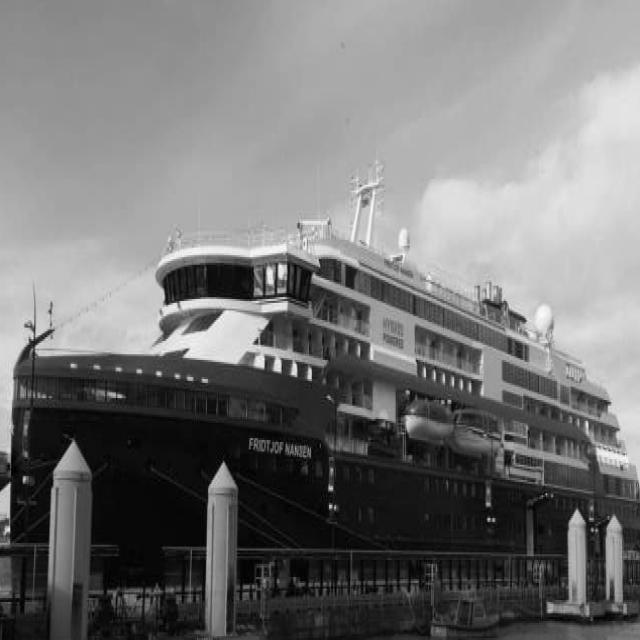cruises: (1, 140, 640, 565)
